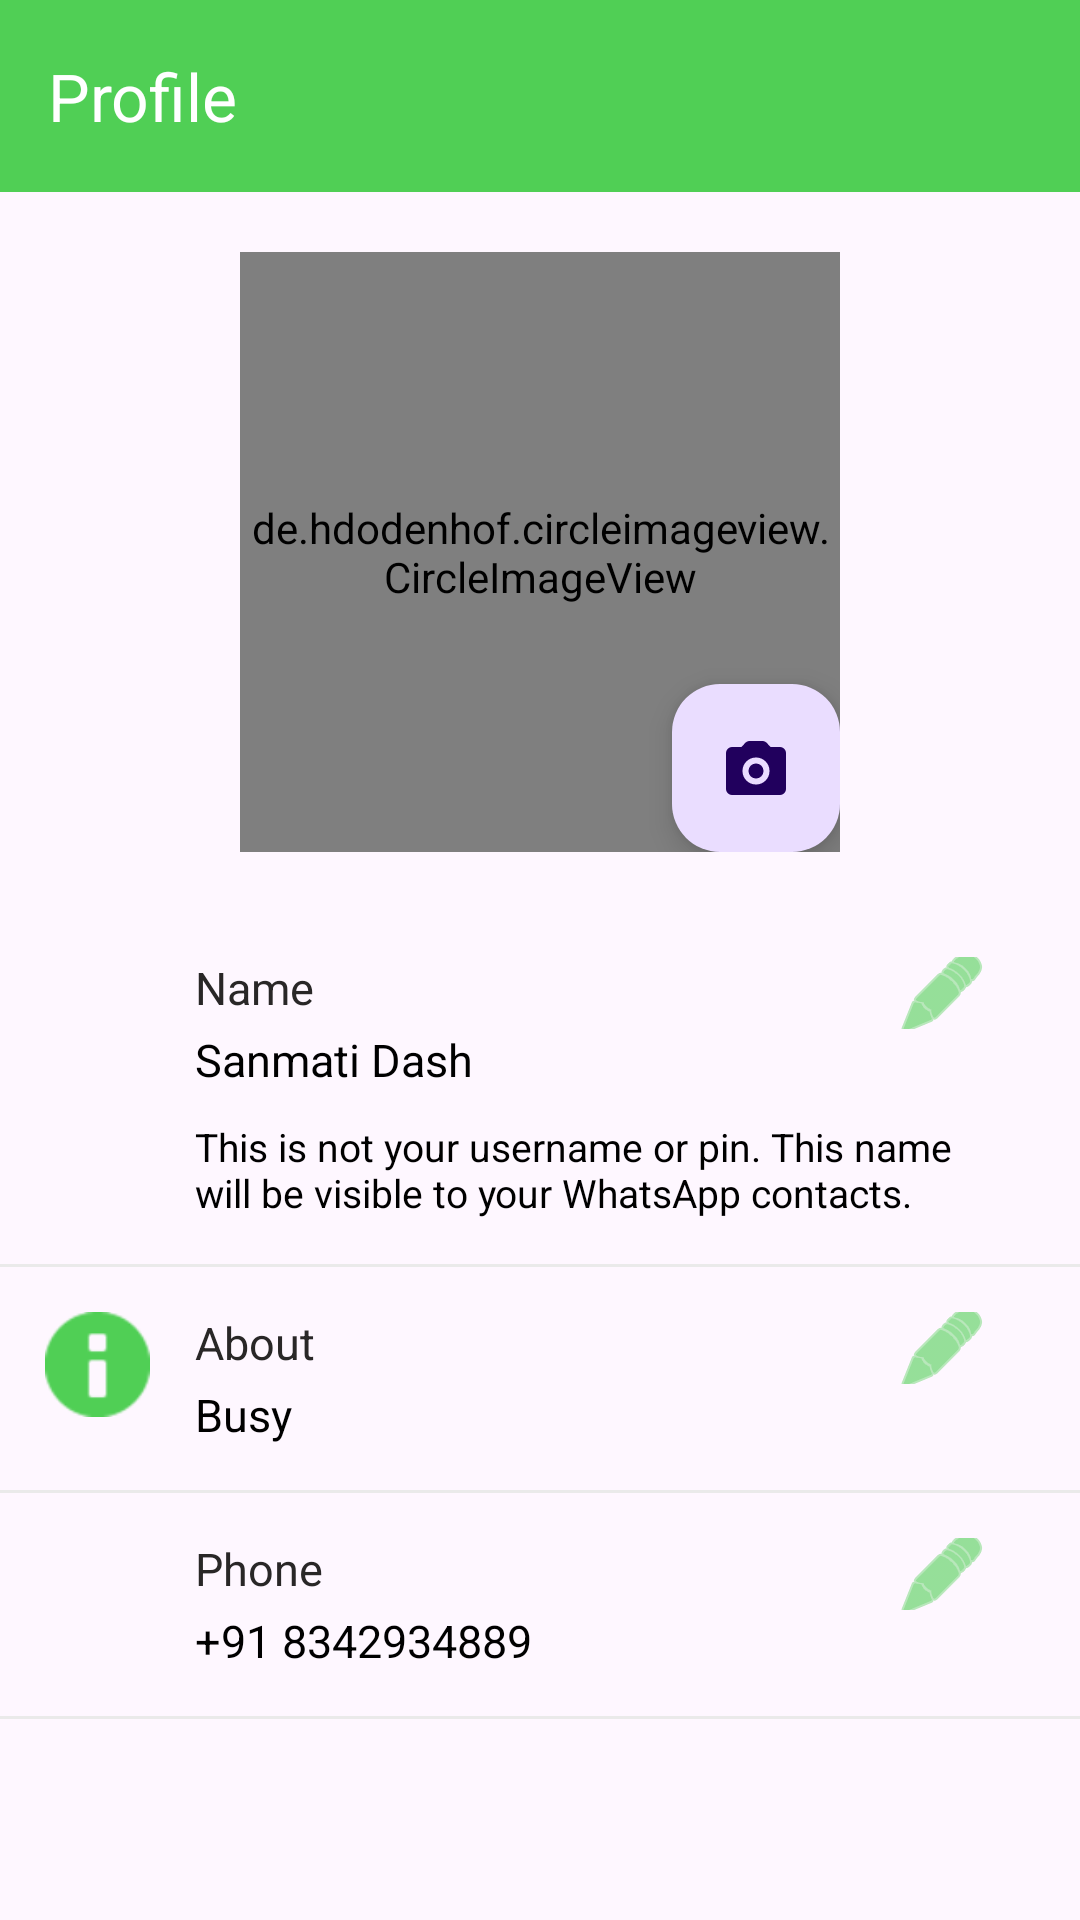

Screen size 1080w x 1920h. Icon name, then its center in pixels as (x,y):
edit: (941,993), (941,1348), (941,1574)
info: (97,1364)
photo camera: (756,768)
